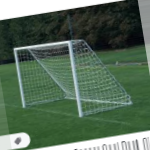goals: (12, 38, 134, 117)
